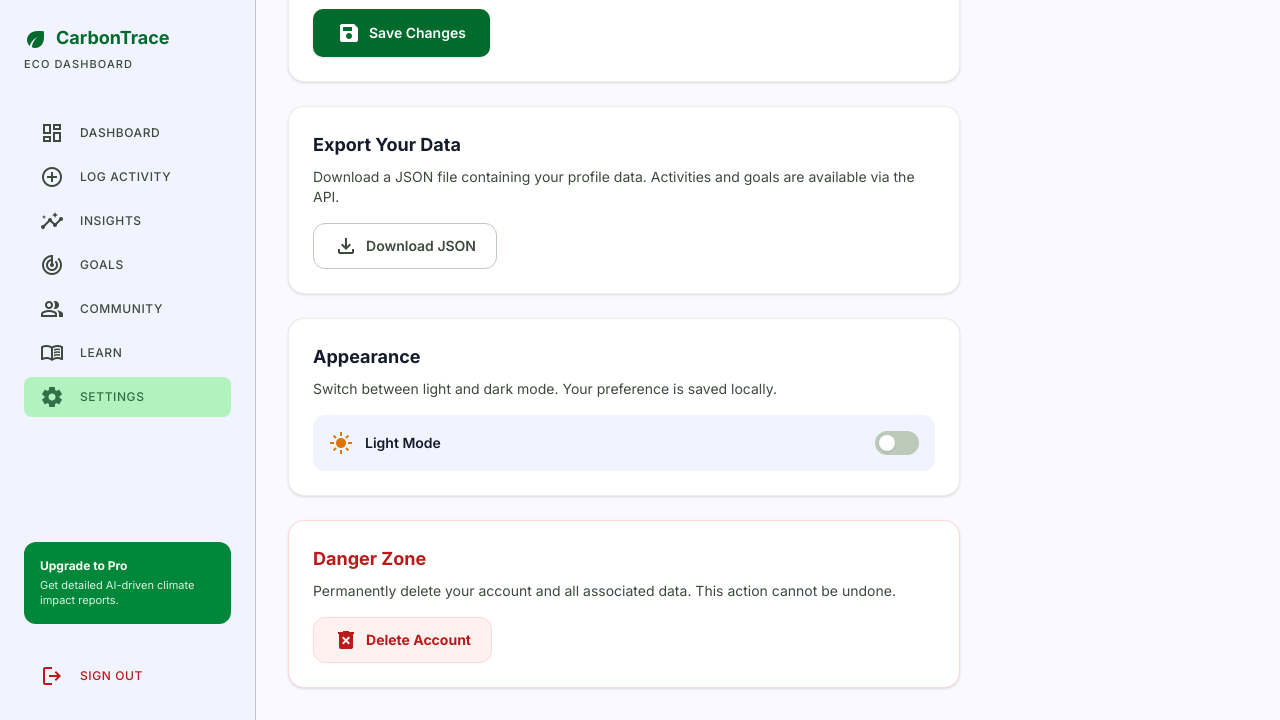
SettingsPage › cancel hides delete confirmation
(page scrolled)
Click the button "Delete Account" at (402, 640), box [313,616,492,662]
(page scrolled)
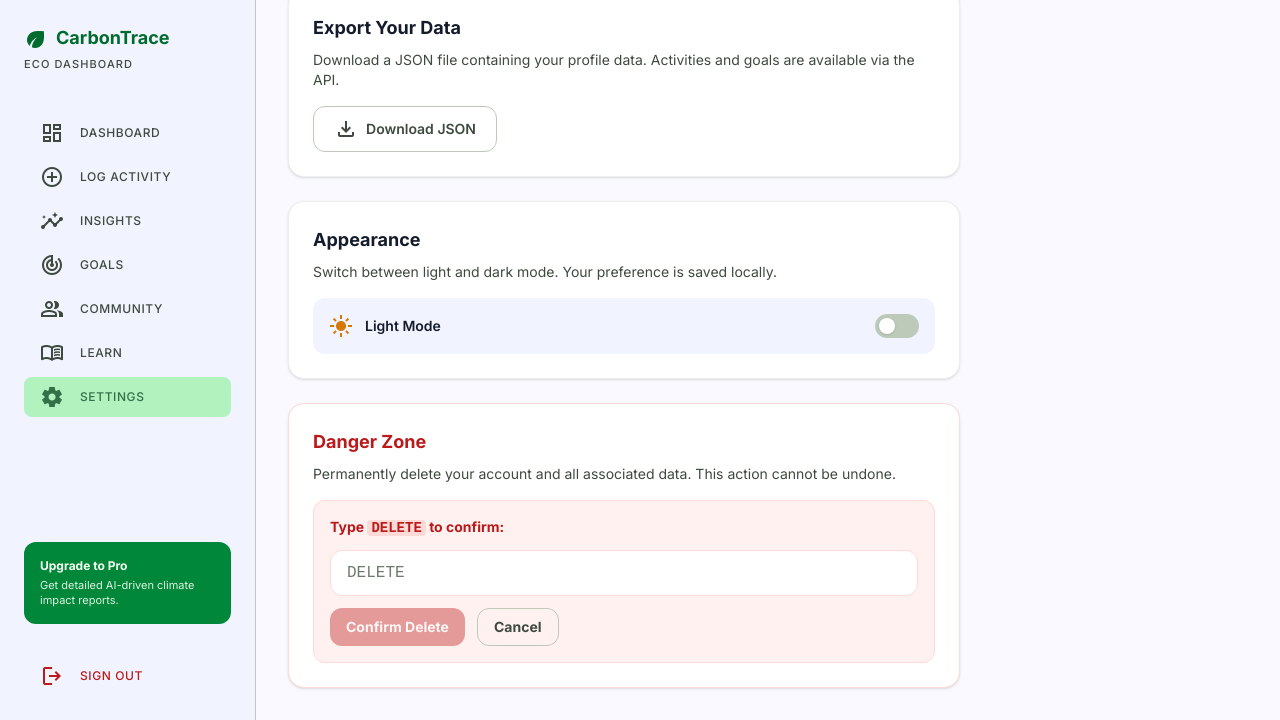
Expected: the field named "type delete to confirm" is shown, [330,550,918,596]
Click the button "Cancel" at (518, 626), box [477,608,559,646]
(page scrolled)
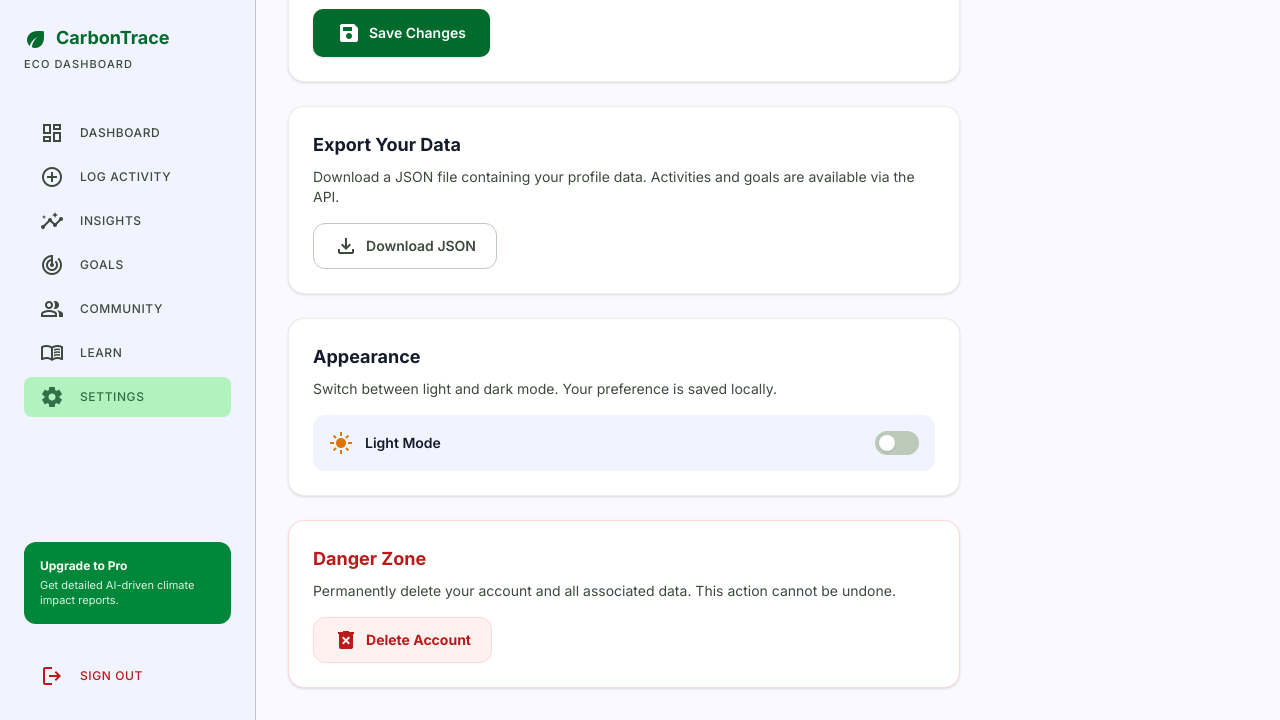
Expected: the field labelled "Type DELETE to confirm" is gone
